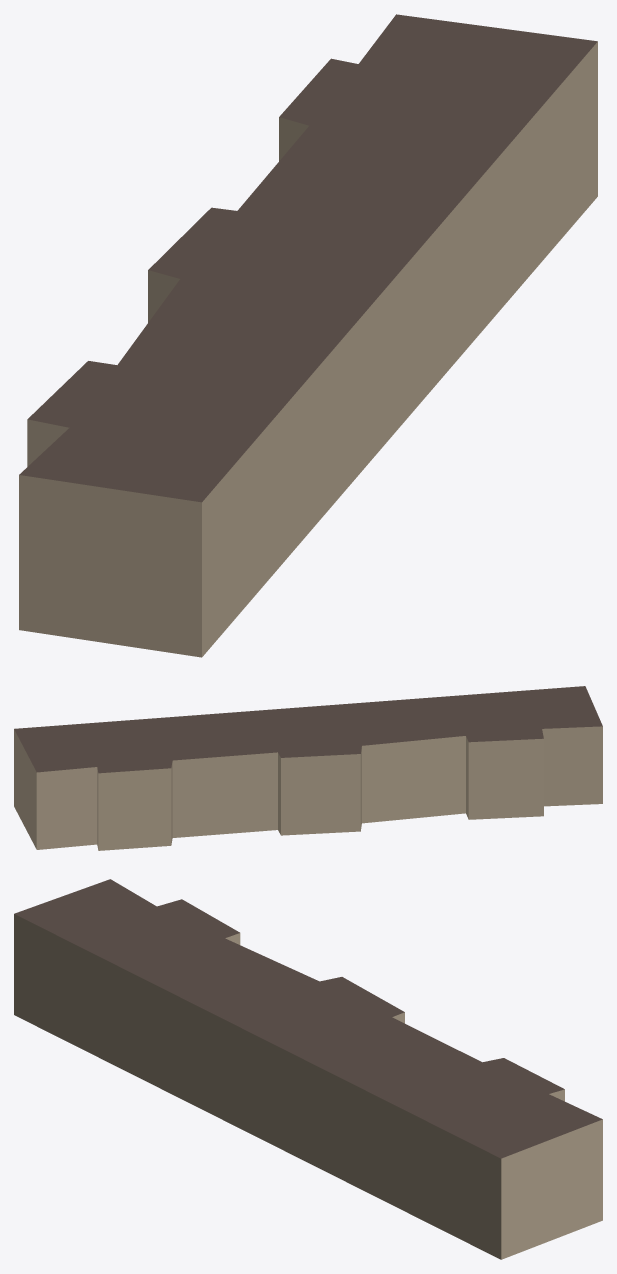
3 views of the same model, one above another, from view 1: azimuth 30°, elevation 25°; view 2: azimuth 150°, elevation 25°; view 3: azimuth 270°, elevation 25° (orthographic). The views are drawn at different scales.
Visible parts, largest first — view 1: HP-w1515076947; view 2: HP-w1515076947; view 3: HP-w1515076947.
Boxes of the visible parts, x1=… form: HP-w1515076947: x1=19, y1=14, x2=597, y2=657; HP-w1515076947: x1=14, y1=686, x2=602, y2=850; HP-w1515076947: x1=14, y1=879, x2=602, y2=1259.
Size of the model in its own units: 53.32 by 9 by 47.46.
